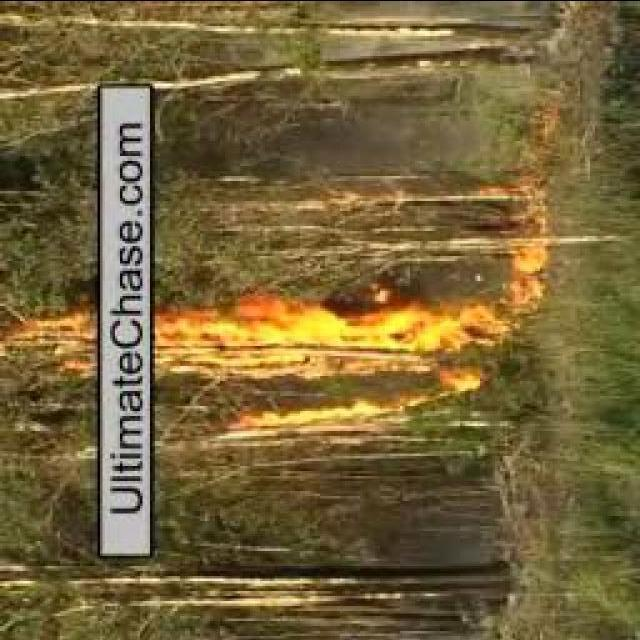Fire: (160, 302, 492, 378), (230, 393, 428, 448), (520, 220, 546, 336), (22, 316, 92, 358)
